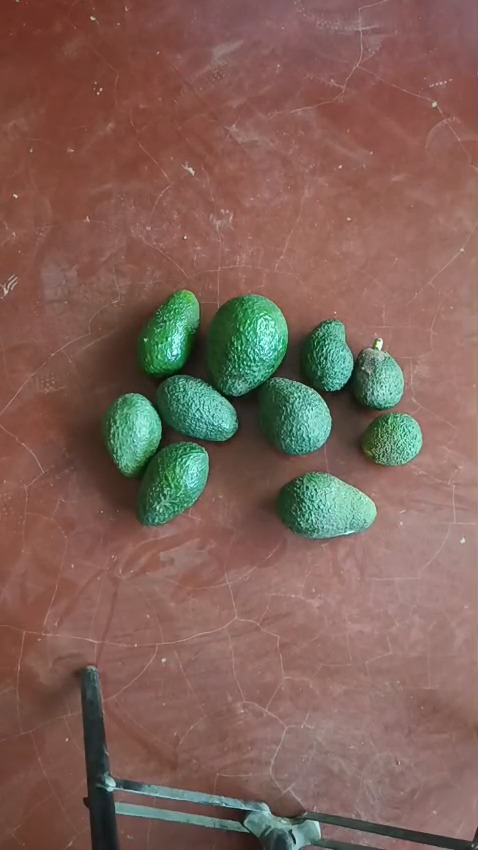Primera: (205, 294, 289, 395)
Segunda: (276, 471, 376, 537), (136, 441, 210, 524), (155, 373, 240, 443), (257, 376, 332, 455), (135, 289, 201, 378), (101, 393, 162, 477)
Tercera: (298, 319, 354, 393), (350, 337, 405, 409), (361, 411, 422, 465)
